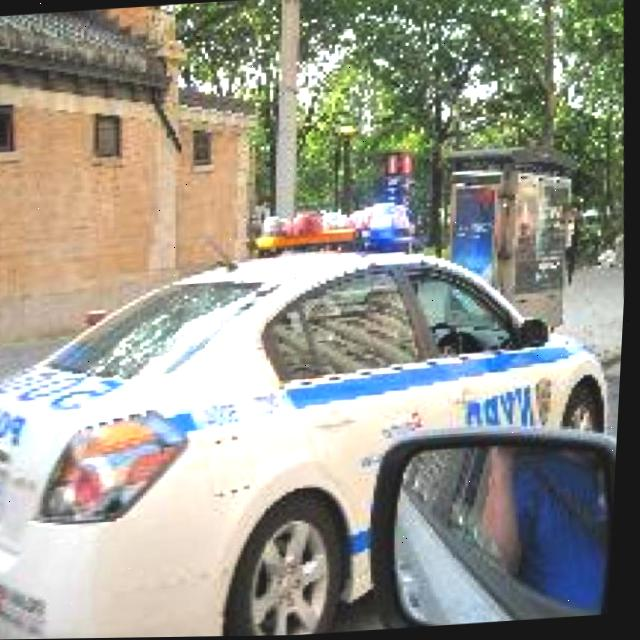emergency: (0, 181, 628, 640)
